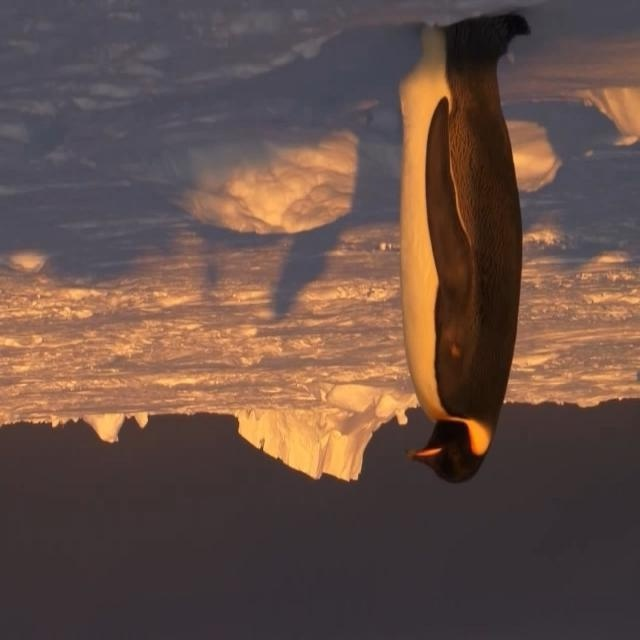penguin: (396, 13, 532, 485)
